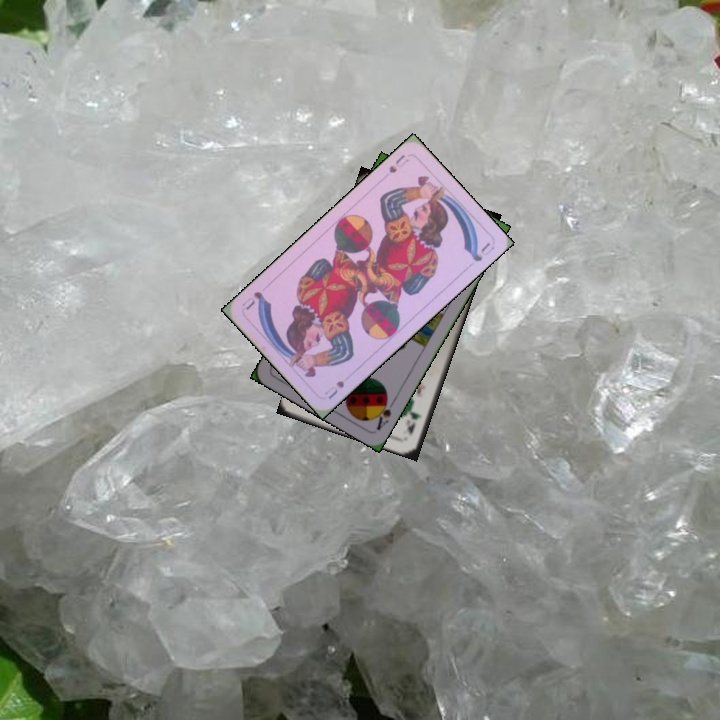GK: (403, 407, 424, 439)
SA: (371, 392, 398, 433)
SU: (320, 376, 347, 402), (385, 150, 412, 176)
